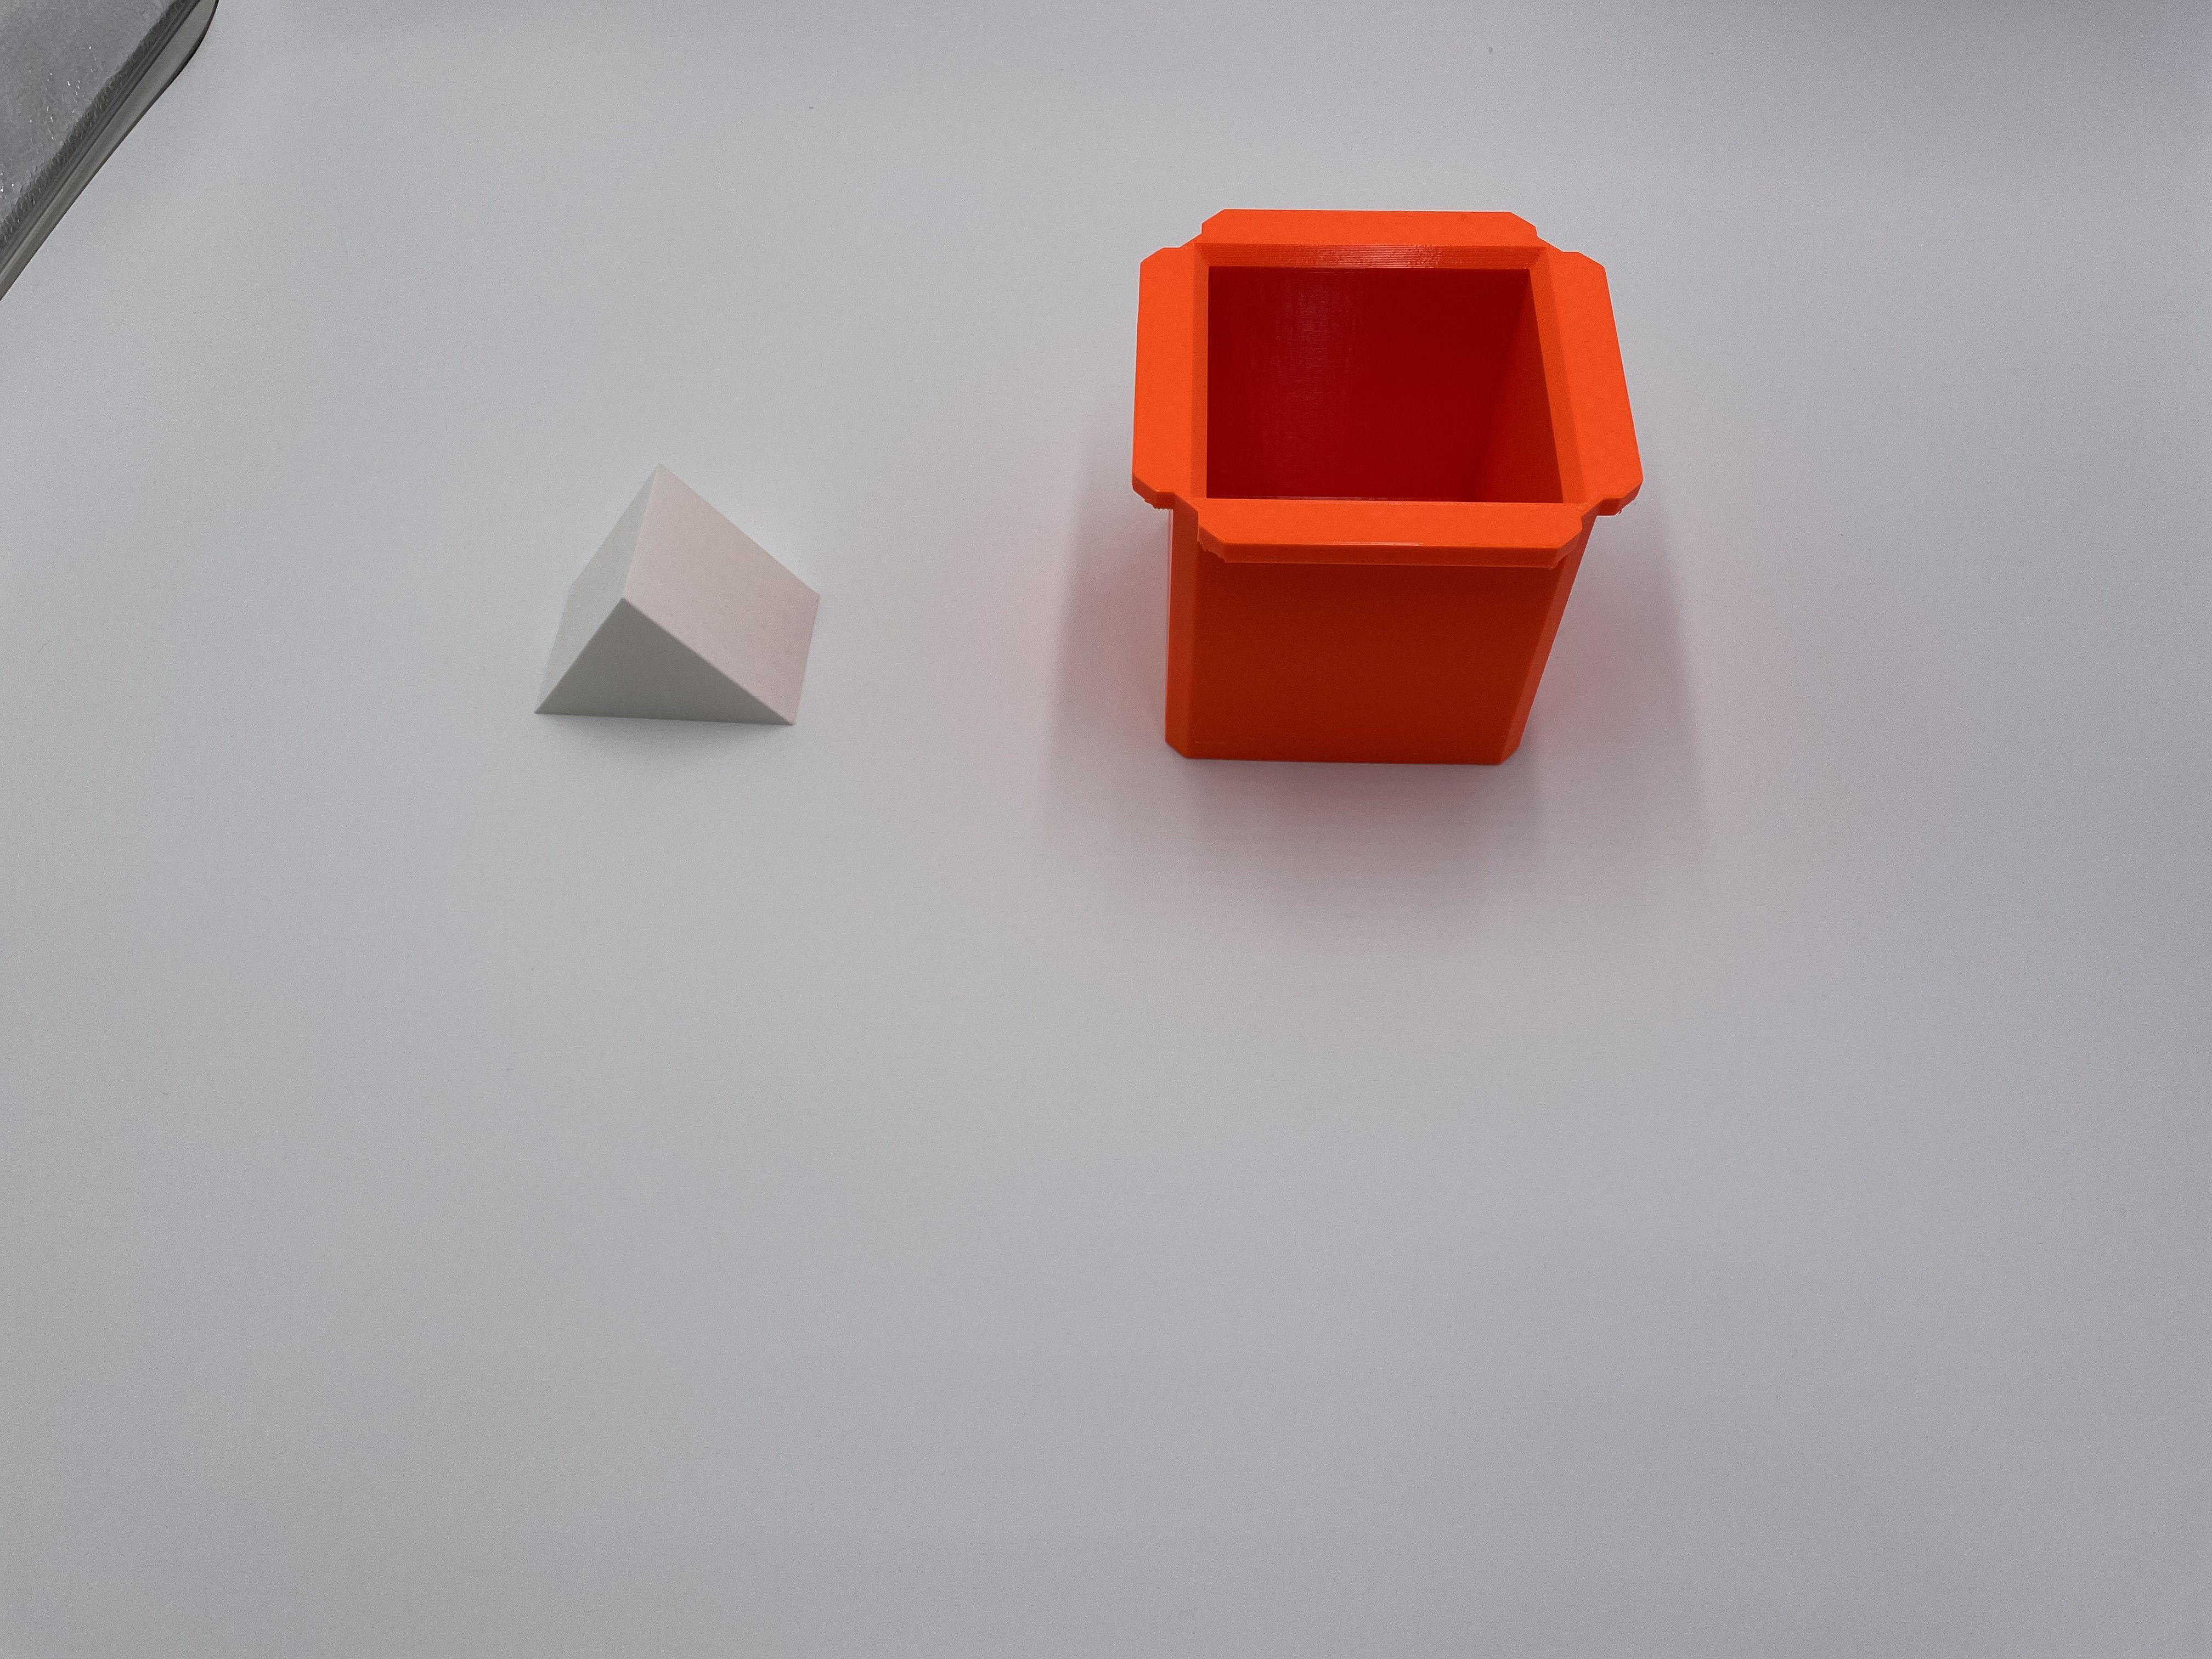payload1: (1116, 190, 1658, 810)
payload2: (517, 437, 892, 795)
